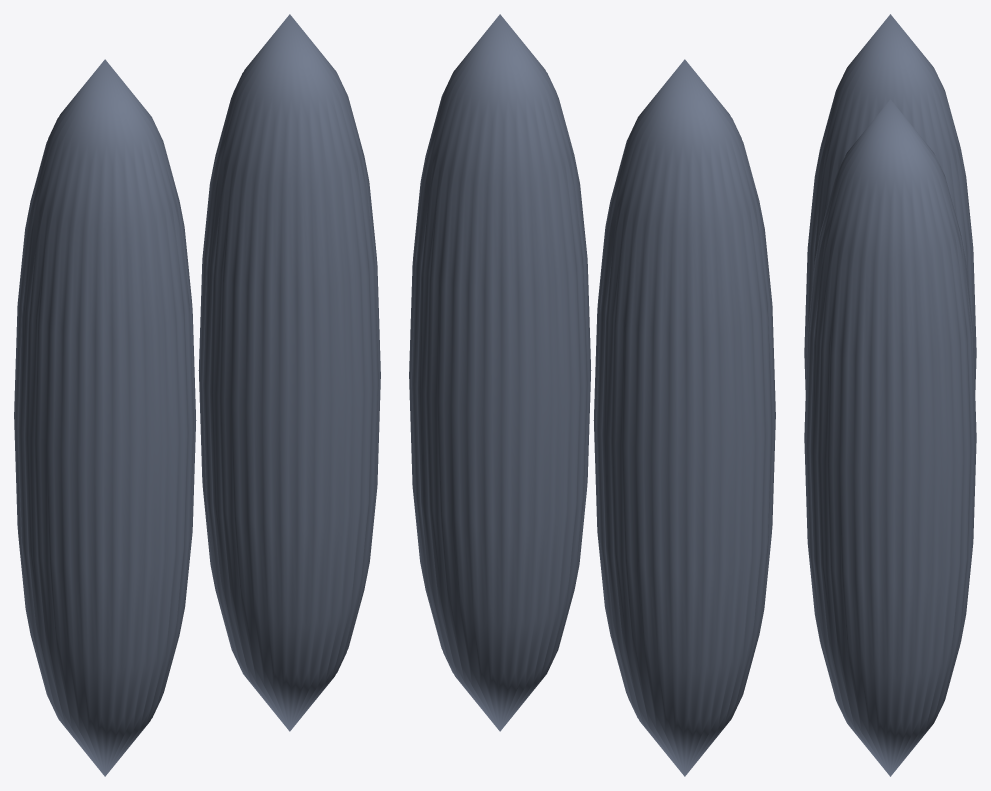
File: outfit_pants.glb
3 views of the same model, side by side, from view 1: azimuth 30°, elevation 25°; view 2: azimuth 150°, elevation 25°; view 3: azimuth 270°, elevation 25° (orthographic). The views are drawn at different scales.
Visible parts, largest first — view 1: Cylinder, Cylinder.001; view 2: Cylinder, Cylinder.001; view 3: Cylinder.001, Cylinder.
Boxes of the visible parts, x1,y1,x2,y2 form: Cylinder: (14,59,196,776); Cylinder.001: (198,14,380,731); Cylinder: (593,59,775,776); Cylinder.001: (409,14,591,731); Cylinder.001: (804,99,976,776); Cylinder: (804,14,976,389).
Size of the model in its own units: 0.4082 by 0.8168 by 0.1882.
